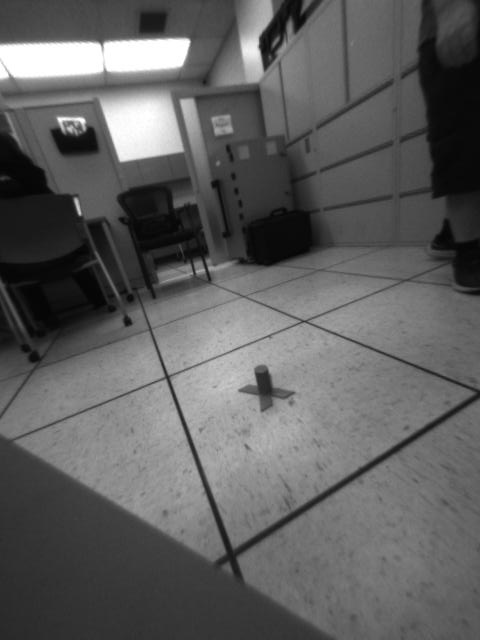X: (238, 364, 296, 414)
